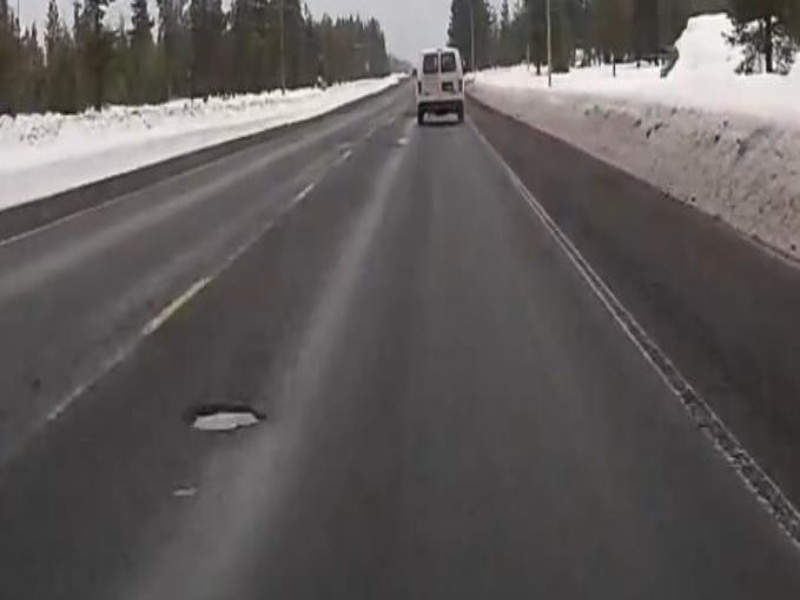pothole: (186, 400, 266, 437)
